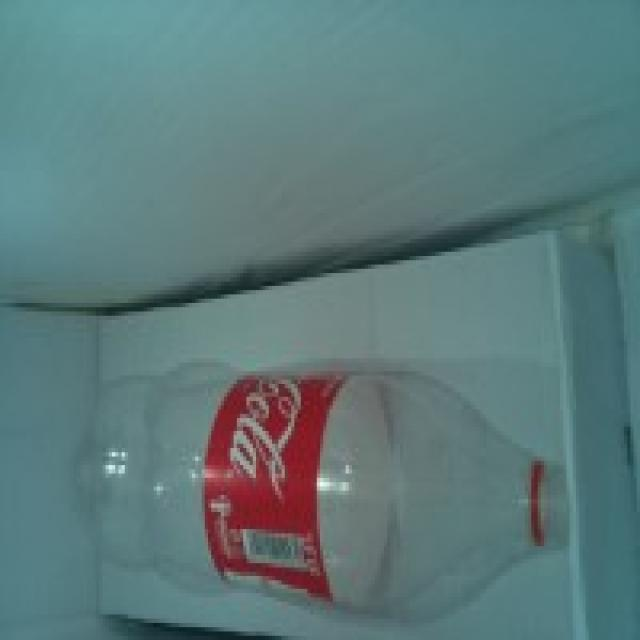plastic_bottle: (73, 361, 558, 624)
